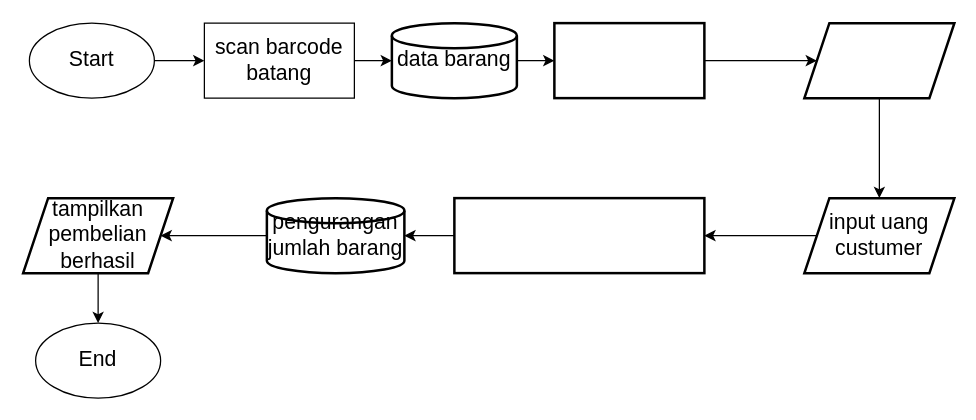
Image size: 976x420. Some labels were removed from this diagram. Here are the shapes that lost their labels. From the top down, the centre of each, then its label:
At pixel 628 60: "ambil data brang".
At pixel 878 60: "tampilkan".
At pixel 578 235: "proses pergitungan harga barang dengan yang custumer".
